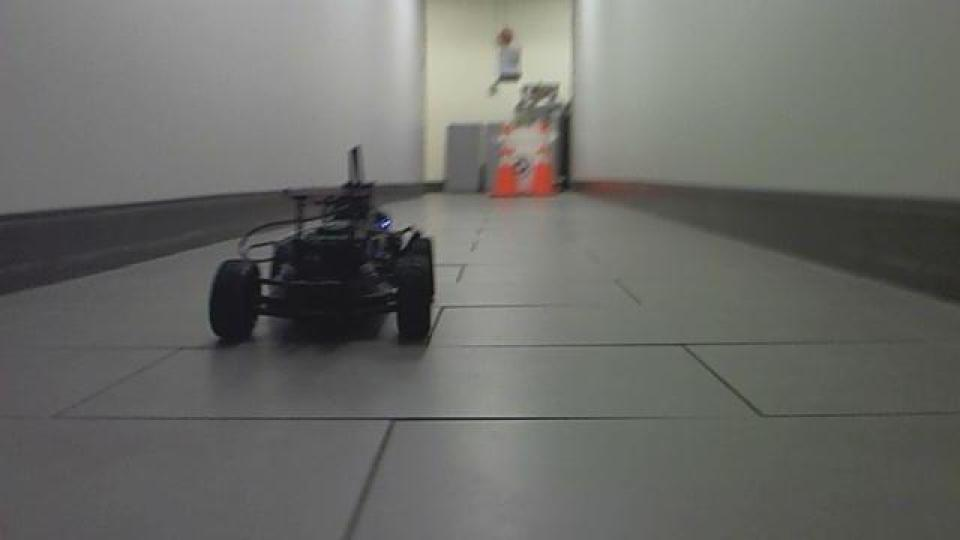car: (204, 142, 438, 348)
